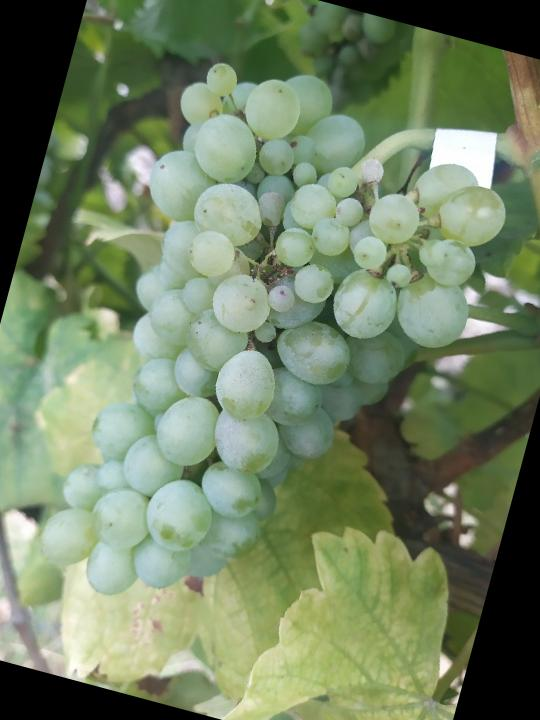grape: (28, 35, 531, 673)
